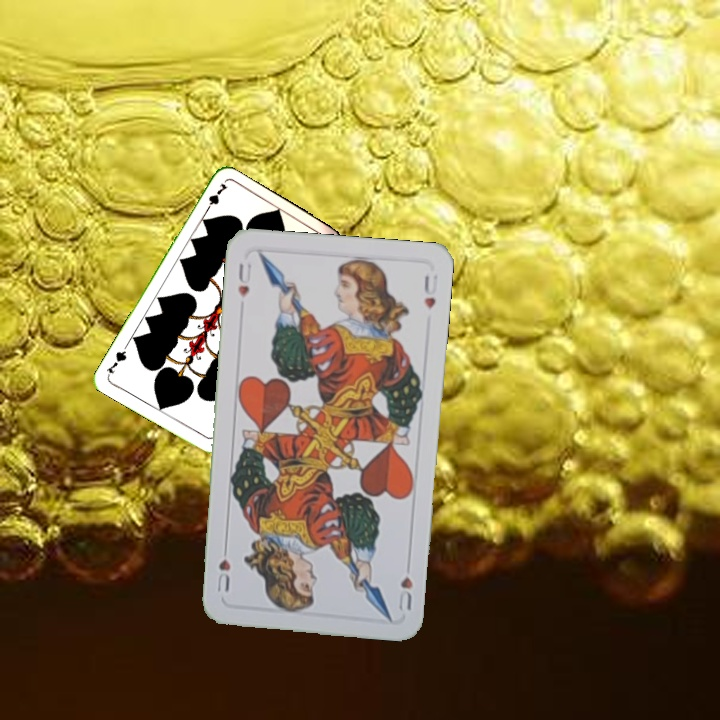G7: (201, 179, 230, 216)
HU: (394, 572, 415, 613), (234, 259, 254, 300)
